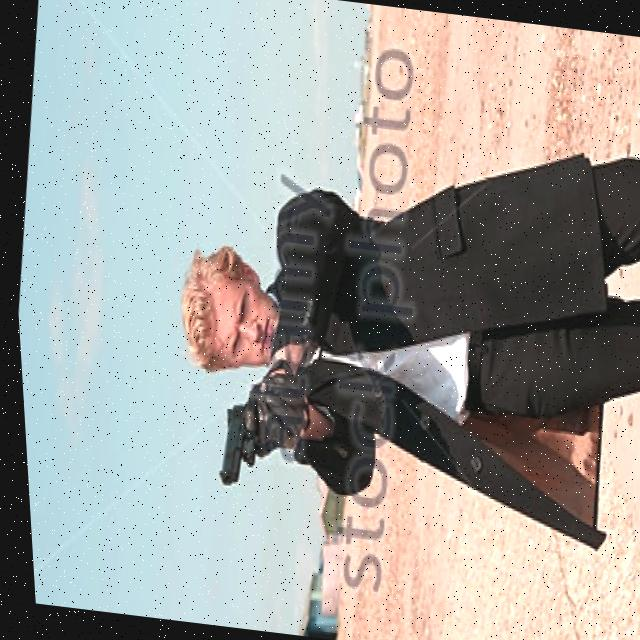pistol: (208, 402, 256, 488)
